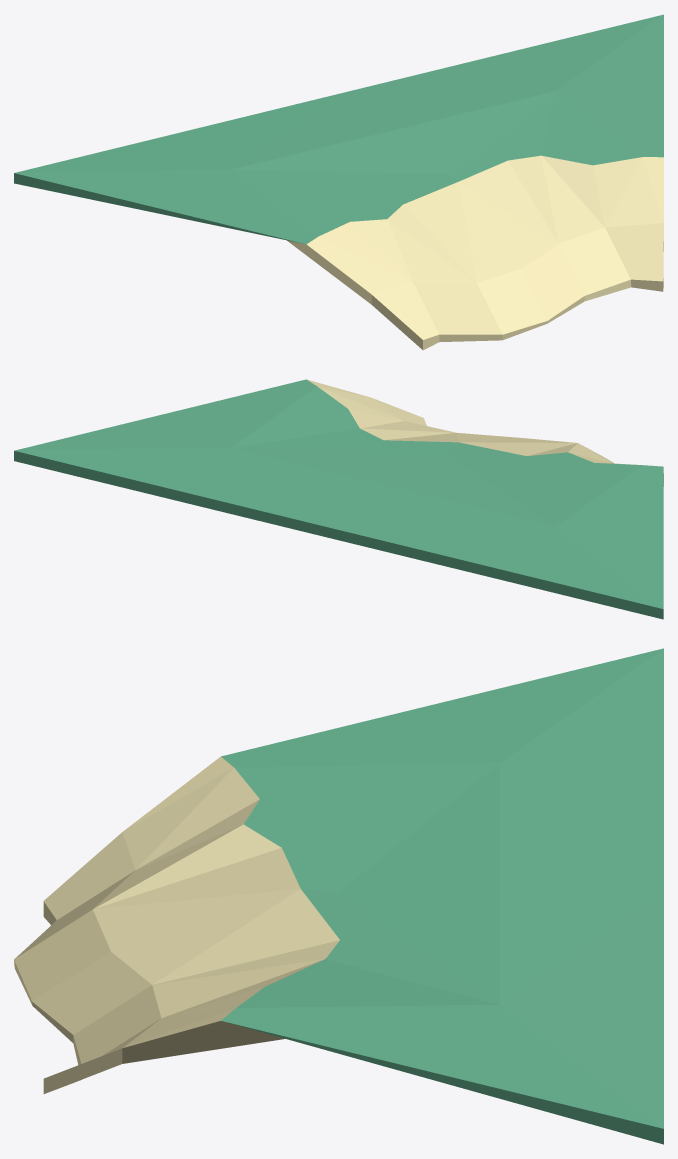
The model's file is tile5.glb.
3 renders of one model, top to bottom at view 1: azimuth 30°, elevation 25°; view 2: azimuth 150°, elevation 25°; view 3: azimuth 270°, elevation 25°, orthographic. The views are drawn at different scales.
Parts seen in each view (by area): view 1: ground.006; view 2: ground.006; view 3: ground.006.
Part boxes in pixels (bbox=[...]): ground.006: bbox=[14, 14, 663, 350]; ground.006: bbox=[14, 379, 663, 619]; ground.006: bbox=[14, 648, 663, 1144].
Bounding box in the file's own units: 1 × 0.1188 × 0.5716.
